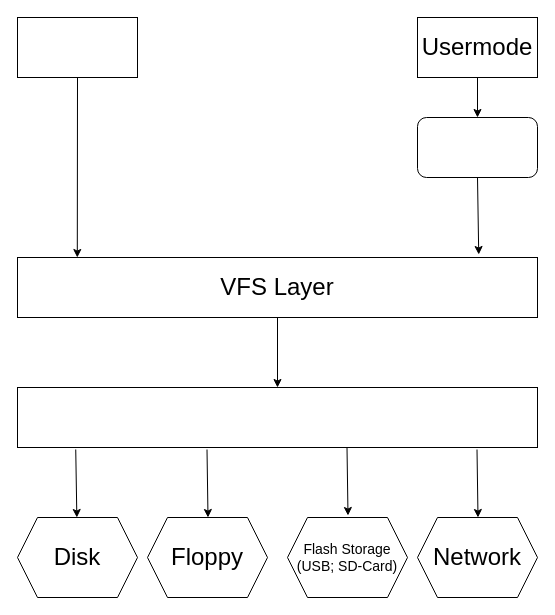
Some shapes in this 555 by 615 pixel diagram are drawn without their labels. Here are the shapes that lost their labels. From the top down, the box of each, then its label:
(16, 16, 138, 78): Kernel
(416, 116, 538, 178): Syscalls
(16, 386, 538, 448): Filesystem Drivers
